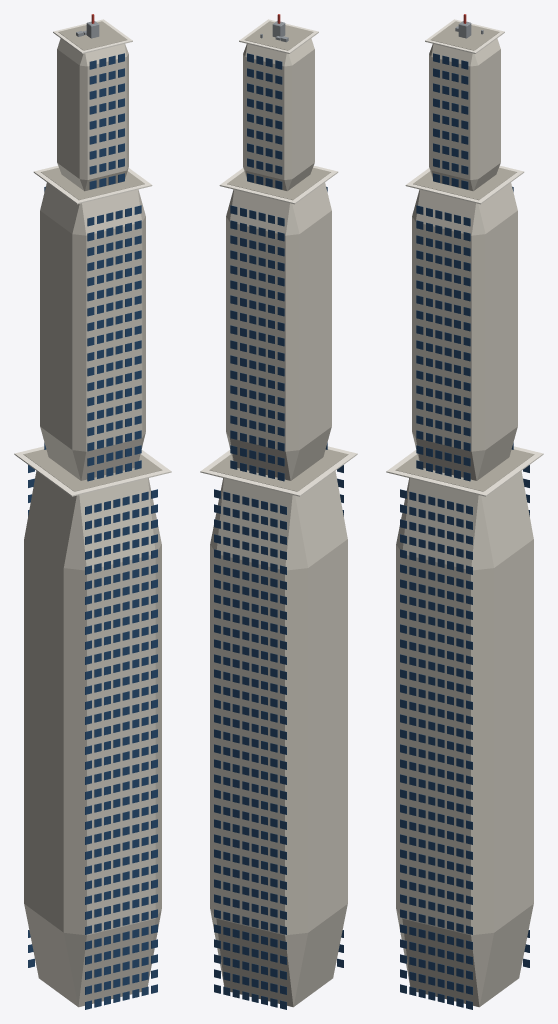
The model's file is tower_setback_h240.glb.
3 views of the same model, side by side, from view 1: azimuth 30°, elevation 25°; view 2: azimuth 150°, elevation 25°; view 3: azimuth 330°, elevation 25° (orthographic).
Parts seen in each view (by area): view 1: t1, t2, t3, tierroof, tierlip, tierroof.001, tierroof.002, tierlip.001, tierlip.002; view 2: t1, t2, t3, tierroof, tierlip, tierroof.001, tierroof.002, tierlip.001, tierlip.002; view 3: t1, t2, t3, tierroof, tierlip, tierroof.001, tierroof.002, tierlip.001, tierlip.002.
Part boxes in pixels (x1,y1,x2,y2): t1: [24, 471, 161, 1007]; t2: [40, 182, 145, 480]; t3: [57, 38, 128, 191]; tierroof: [23, 449, 162, 491]; tierlip: [14, 446, 171, 496]; tierroof.001: [41, 167, 144, 200]; tierroof.002: [58, 21, 127, 50]; tierlip.001: [33, 165, 152, 204]; tierlip.002: [53, 19, 132, 53]; t1: [210, 471, 347, 1007]; t2: [226, 182, 331, 480]; t3: [243, 38, 314, 191]; tierroof: [209, 449, 348, 491]; tierlip: [200, 446, 357, 496]; tierroof.001: [227, 167, 330, 200]; tierroof.002: [244, 21, 313, 50]; tierlip.001: [219, 165, 338, 204]; tierlip.002: [239, 19, 318, 53]; t1: [396, 471, 533, 1007]; t2: [412, 182, 517, 480]; t3: [429, 38, 500, 191]; tierroof: [395, 449, 534, 491]; tierlip: [386, 446, 543, 496]; tierroof.001: [413, 167, 516, 200]; tierroof.002: [430, 21, 499, 50]; tierlip.001: [405, 165, 524, 204]; tierlip.002: [425, 19, 504, 53].
Size of the model in its own units: 26.4 by 246 by 26.4.
